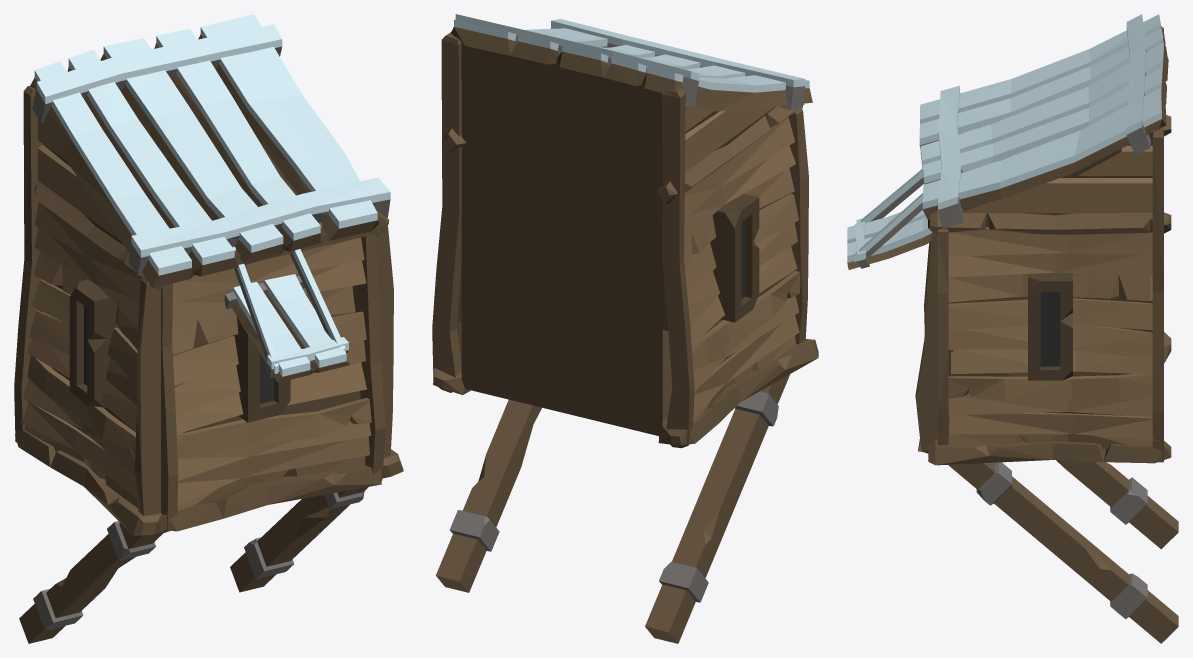
Rendered from SM_Bld_Castle_Wood_Battlement_04_Snow.gltf.
3 renders of one model, left to right at view 1: azimuth 30°, elevation 25°; view 2: azimuth 150°, elevation 25°; view 3: azimuth 270°, elevation 25°, orthographic. The views are drawn at different scales.
Visible parts, largest first — view 1: SM_Bld_Castle_Wood_Battlement_04_Snow; view 2: SM_Bld_Castle_Wood_Battlement_04_Snow; view 3: SM_Bld_Castle_Wood_Battlement_04_Snow.
Boxes of the visible parts, box(x1,y1,x2,y2) form: SM_Bld_Castle_Wood_Battlement_04_Snow: box(14, 14, 403, 643); SM_Bld_Castle_Wood_Battlement_04_Snow: box(432, 14, 818, 643); SM_Bld_Castle_Wood_Battlement_04_Snow: box(847, 14, 1178, 643).
Size of the model in its own units: 1.79 by 3.67 by 2.08.
Materials: 1 (1 with a texture image).
